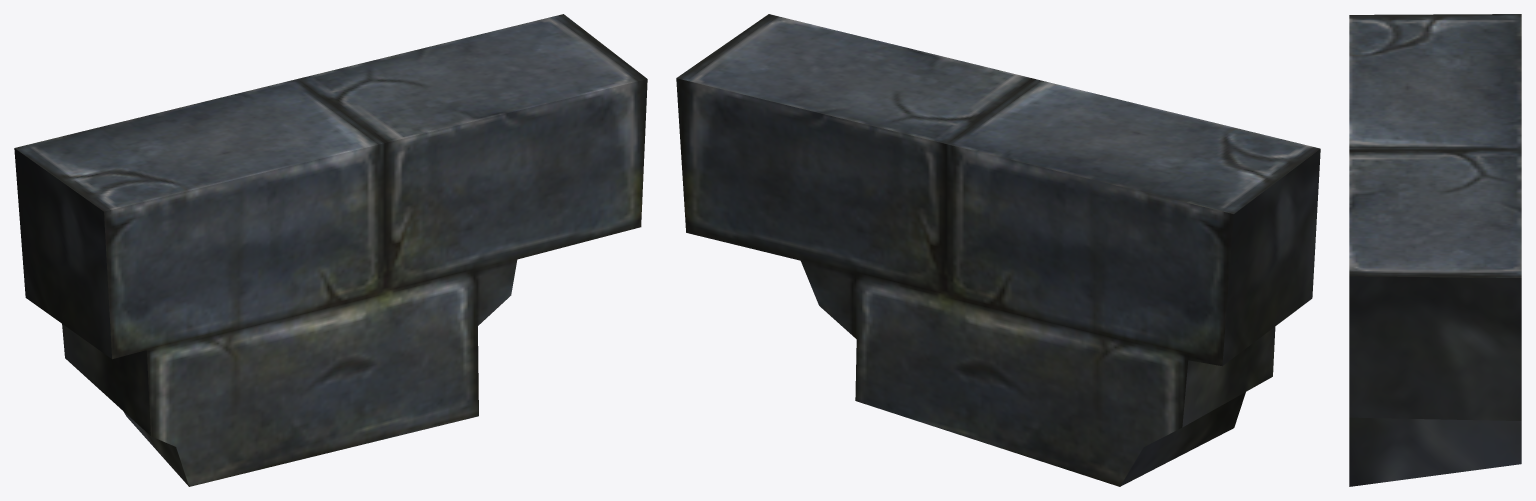
File: C_qiang002.fbx
The picture shows the model from 3 angles, left to right: view 1: azimuth 30°, elevation 25°; view 2: azimuth 150°, elevation 25°; view 3: azimuth 270°, elevation 25°; orthographic projection. The views are drawn at different scales.
Parts seen in each view (by area): view 1: C_qiang002; view 2: C_qiang002; view 3: C_qiang002.
Boxes of the visible parts, left/top/right/bottom form: C_qiang002: left=14, top=14, right=647, bottom=486; C_qiang002: left=676, top=14, right=1320, bottom=486; C_qiang002: left=1349, top=14, right=1521, bottom=486.
Size of the model in its own units: 172 by 88.79 by 47.61.
